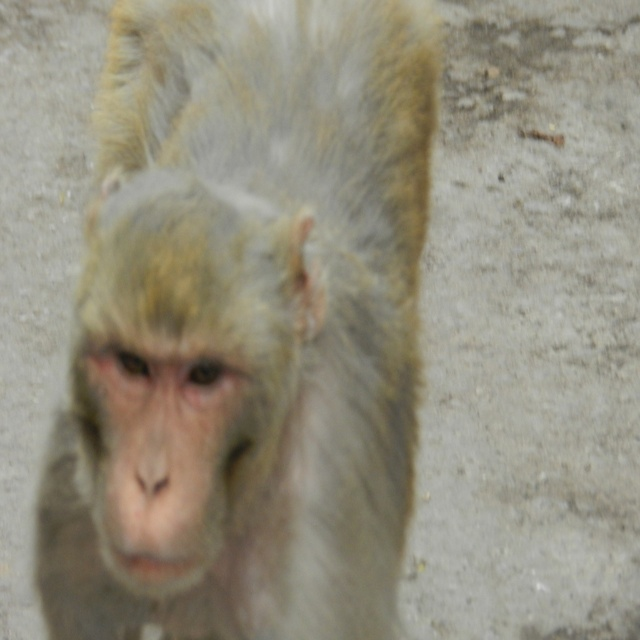Monkey: (64, 0, 444, 639)
